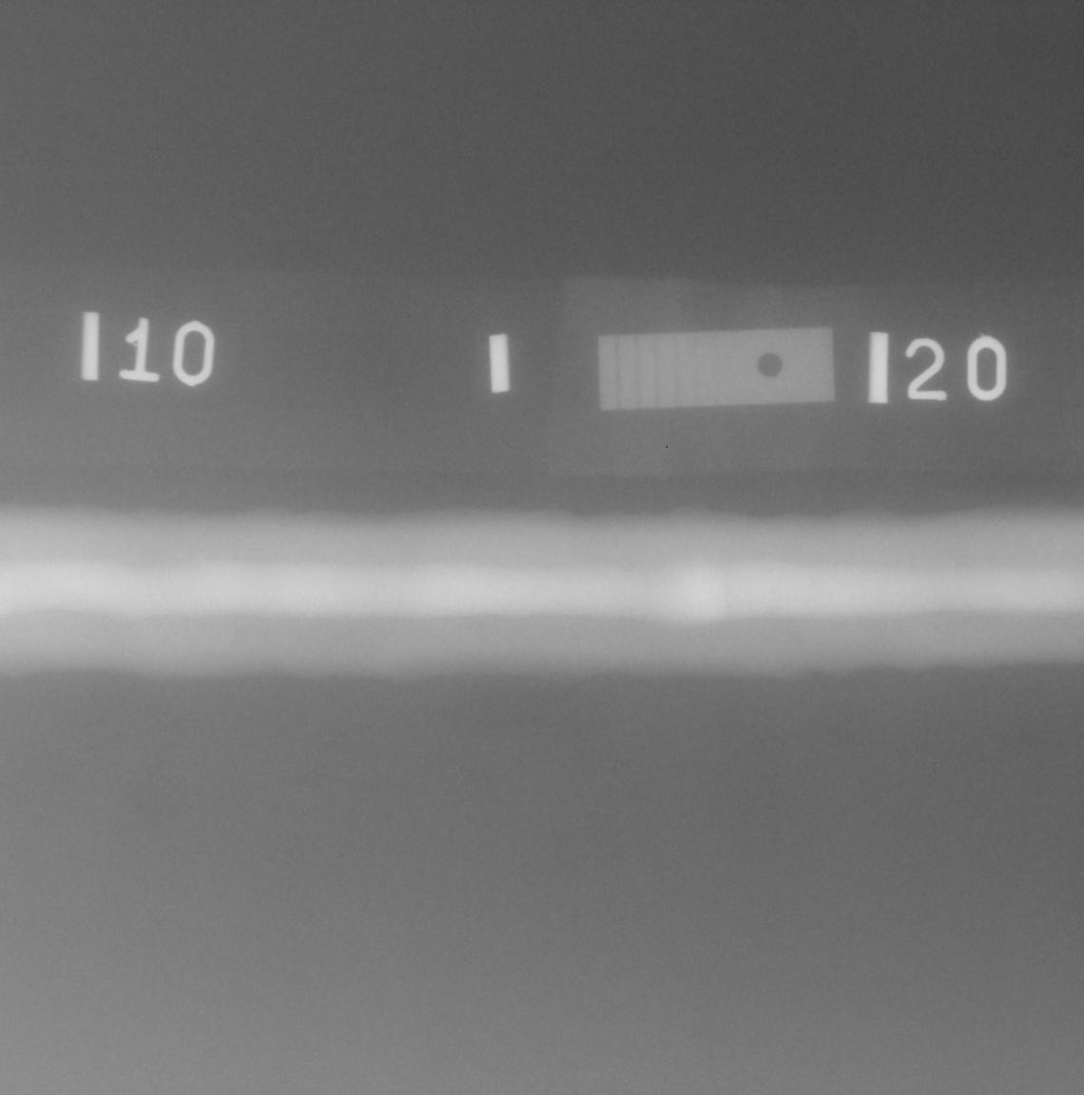Reference Standard 1: (597, 327, 834, 410)
